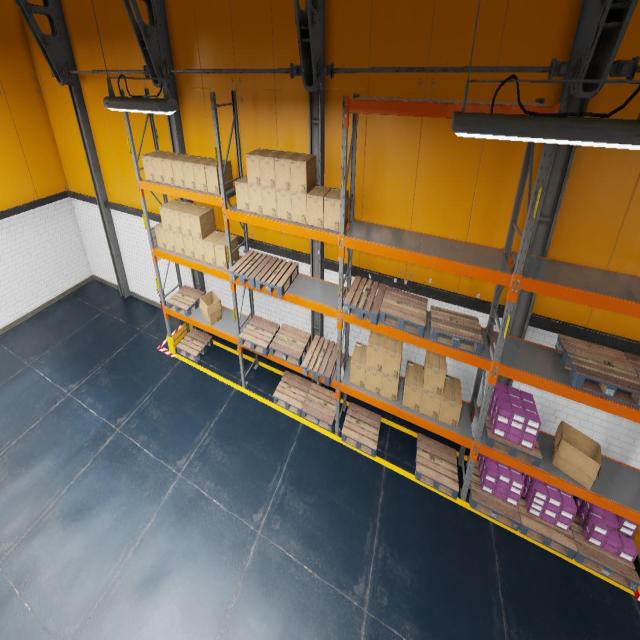box: (552, 421, 602, 489), (438, 374, 462, 428), (419, 368, 442, 420), (402, 360, 424, 412), (290, 153, 316, 194), (324, 188, 348, 232), (307, 185, 332, 227), (424, 349, 446, 396), (274, 152, 300, 191), (260, 150, 286, 188), (245, 148, 271, 186), (204, 160, 233, 194), (188, 206, 216, 240), (381, 358, 402, 402), (213, 234, 239, 269), (382, 336, 403, 379), (170, 155, 197, 187), (160, 153, 186, 185), (199, 290, 222, 326), (366, 331, 386, 372), (350, 341, 367, 389), (182, 156, 206, 190), (202, 230, 225, 265), (168, 202, 193, 234), (141, 150, 166, 182), (192, 158, 215, 192), (151, 152, 176, 183), (178, 204, 202, 236), (159, 199, 183, 231), (234, 175, 250, 211), (291, 191, 307, 224), (276, 189, 292, 221), (261, 186, 277, 218), (365, 367, 382, 395), (248, 184, 263, 214), (154, 222, 167, 250), (192, 237, 205, 262), (182, 235, 195, 259), (172, 232, 185, 255), (163, 229, 176, 252)
pallets: (555, 333, 640, 408), (569, 512, 640, 591), (518, 490, 577, 560), (466, 456, 521, 531), (480, 405, 542, 467), (415, 432, 459, 500), (429, 305, 484, 356), (379, 286, 428, 338), (341, 402, 381, 457), (344, 276, 386, 324), (302, 382, 340, 432), (269, 323, 311, 367), (255, 256, 298, 297), (273, 370, 311, 416), (302, 335, 336, 386), (239, 315, 280, 356), (229, 250, 273, 288), (176, 328, 213, 362), (166, 285, 204, 316), (624, 352, 640, 377)
